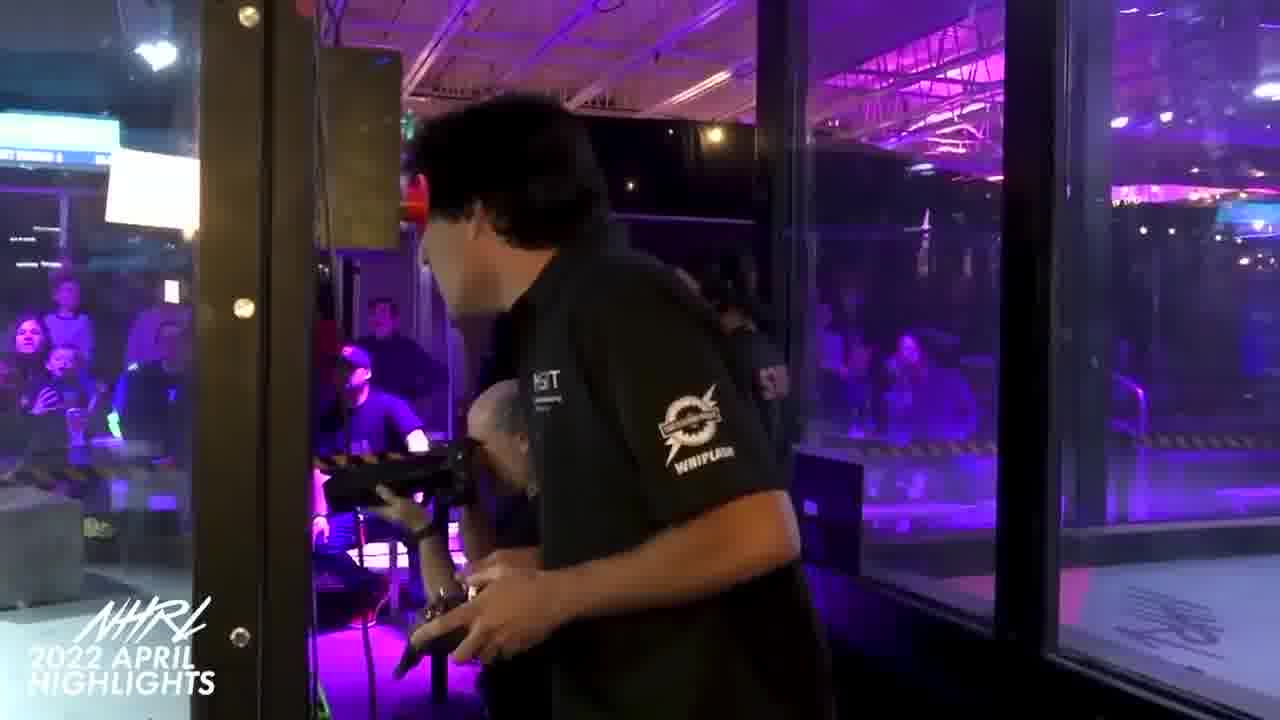housebot: (0, 482, 88, 610)
